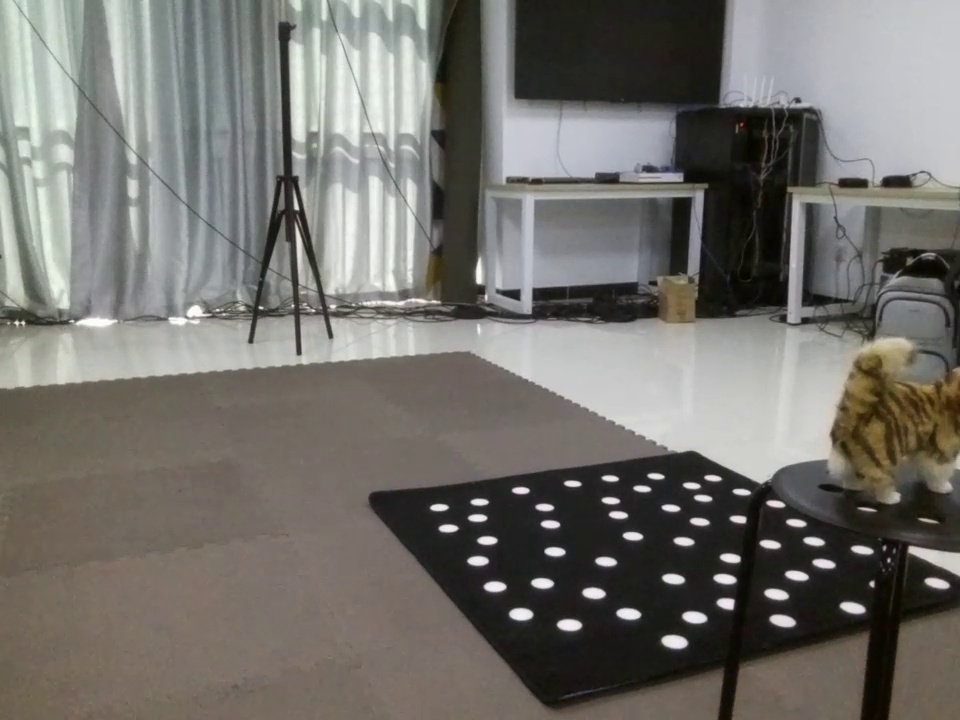cat: (808, 330, 960, 502)
